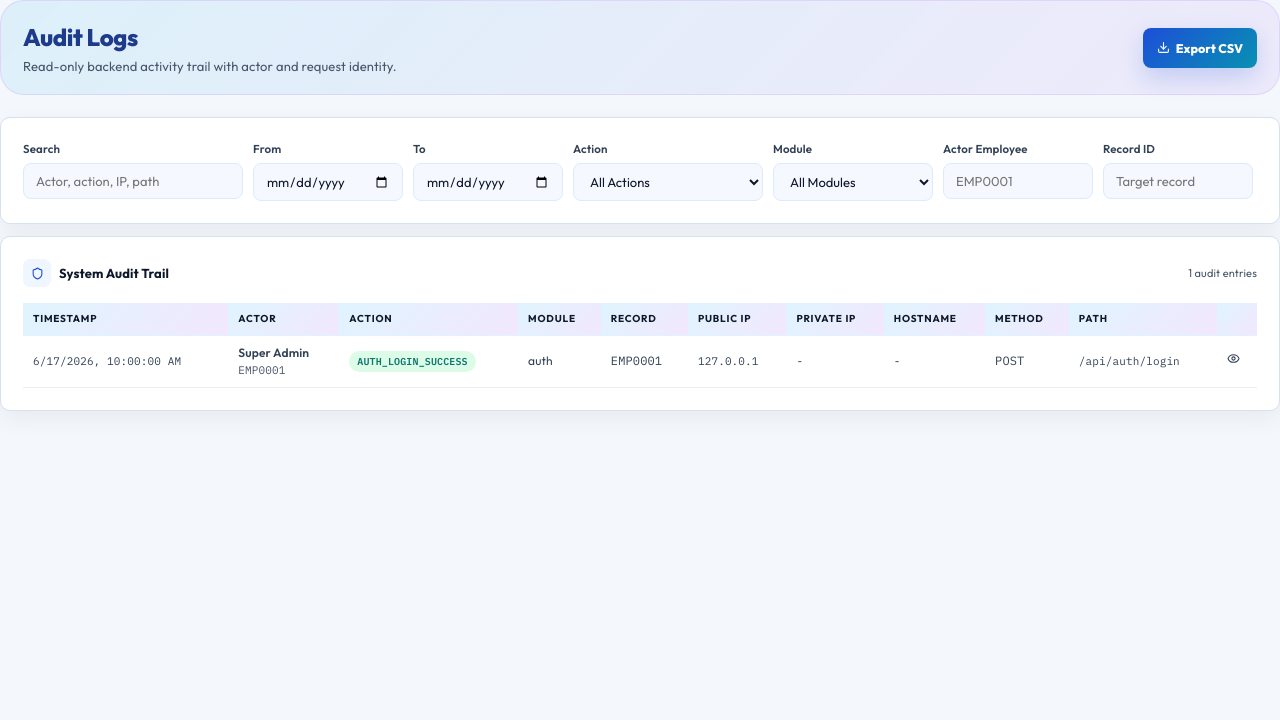
it: AuditLog › shows immutable audit identity details when a row is expanded
The image size is (1280, 720).
Click the text "AUTH_LOGIN_SUCCESS". click: (412, 361)
box: [349,351,476,372]
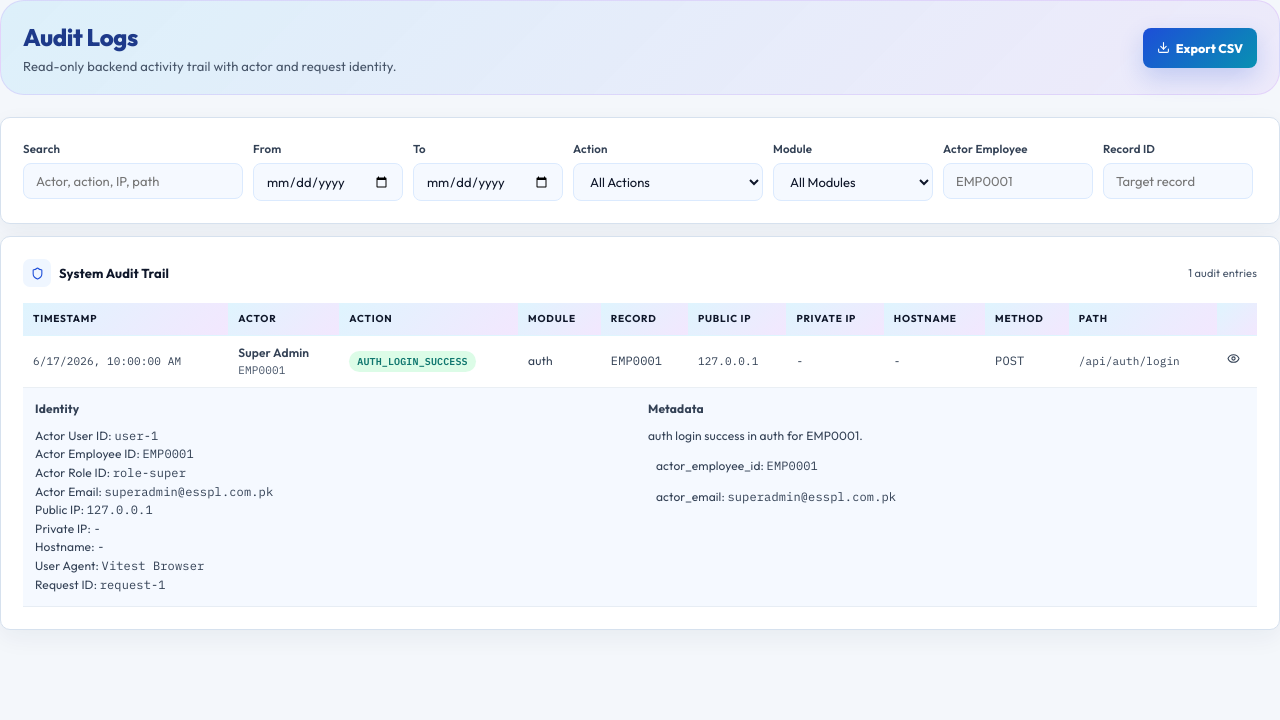
Expected: the text "Identity" is shown, [35,401,79,416]
Expected: the text "Actor User ID:" is shown, [35,428,114,443]
Expected: the text "user-1" is shown, [114,428,158,443]
